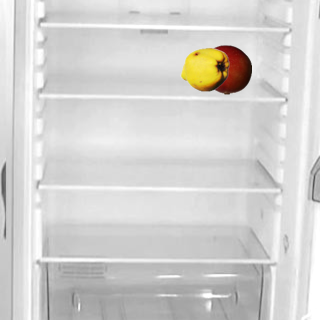Apple Braeburn: (201, 44, 251, 94)
Quince: (179, 44, 229, 94)
